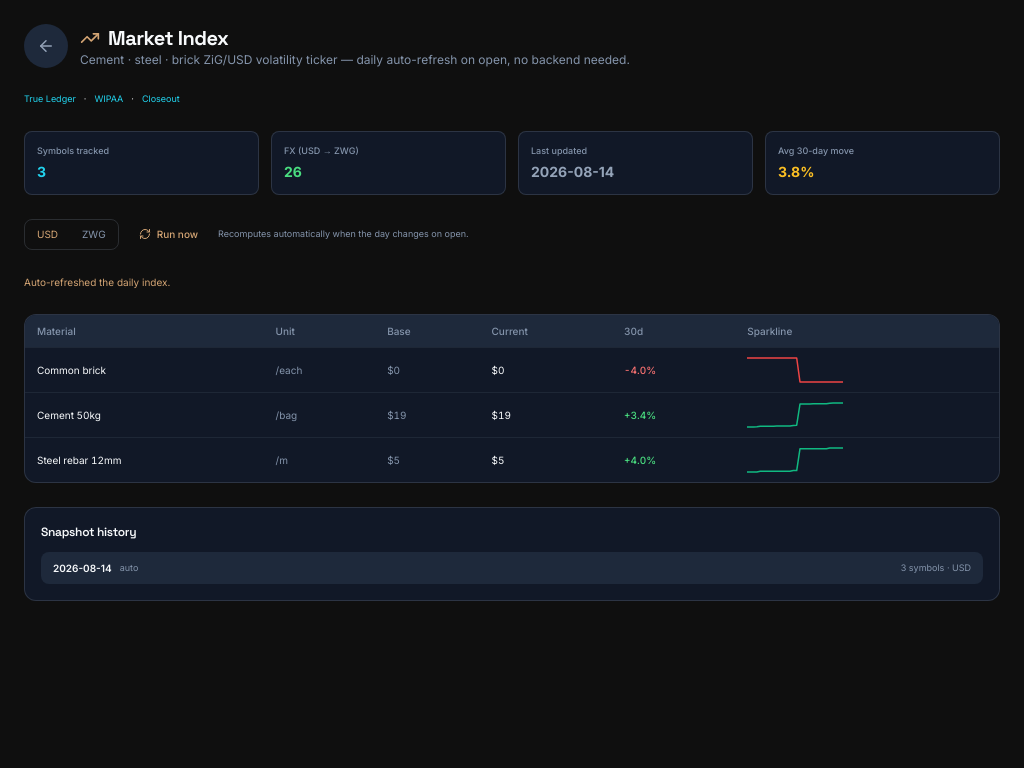
Test case: MarketIndexStudio › Run now recomputes and marks the latest snapshot manual
Expected: the text "Cement 50kg" is shown, [25,392,264,438]
Step 1. Click the button "Run now" → (168, 234), box [127,220,210,249]
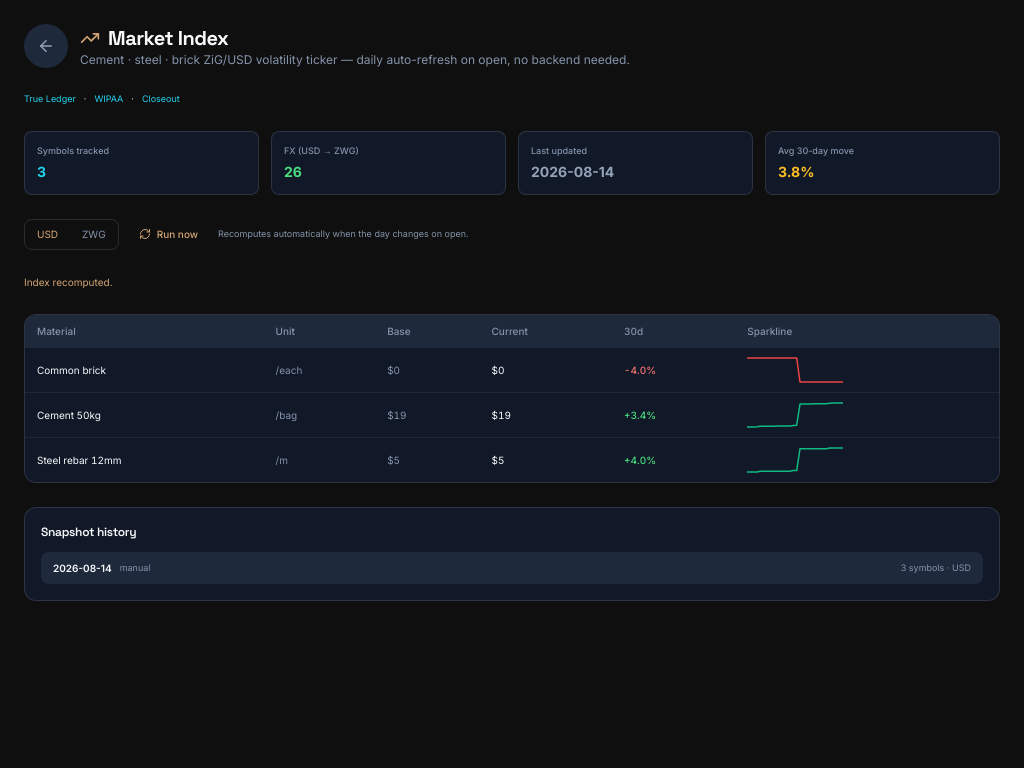
Now the text "Index recomputed." is shown, box [24,276,112,288]
Now the text "manual" is shown, box [120,561,150,575]
